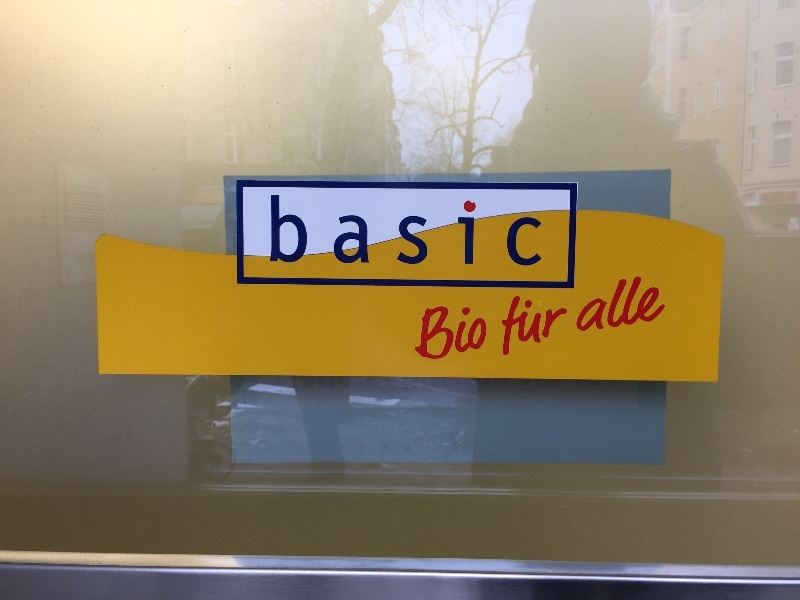text: (273, 194, 288, 267), (289, 194, 304, 267), (305, 194, 320, 267), (321, 194, 336, 267), (337, 194, 352, 267), (353, 194, 368, 267), (369, 194, 384, 267), (385, 194, 400, 267), (401, 194, 416, 267), (417, 194, 432, 267), (433, 194, 448, 267), (449, 194, 464, 267), (465, 194, 480, 267), (481, 194, 496, 267), (497, 194, 512, 267), (513, 194, 528, 267), (529, 194, 543, 267), (593, 275, 608, 336), (609, 275, 624, 336), (625, 275, 640, 336), (641, 275, 656, 336), (657, 275, 672, 336), (513, 296, 528, 356), (529, 296, 544, 356), (545, 296, 560, 356), (561, 296, 576, 356), (433, 303, 448, 363), (449, 303, 464, 363), (465, 303, 480, 363), (481, 303, 496, 363), (503, 296, 512, 356), (424, 303, 432, 363), (673, 275, 676, 336), (577, 296, 580, 356), (270, 194, 272, 267), (497, 303, 499, 363)
